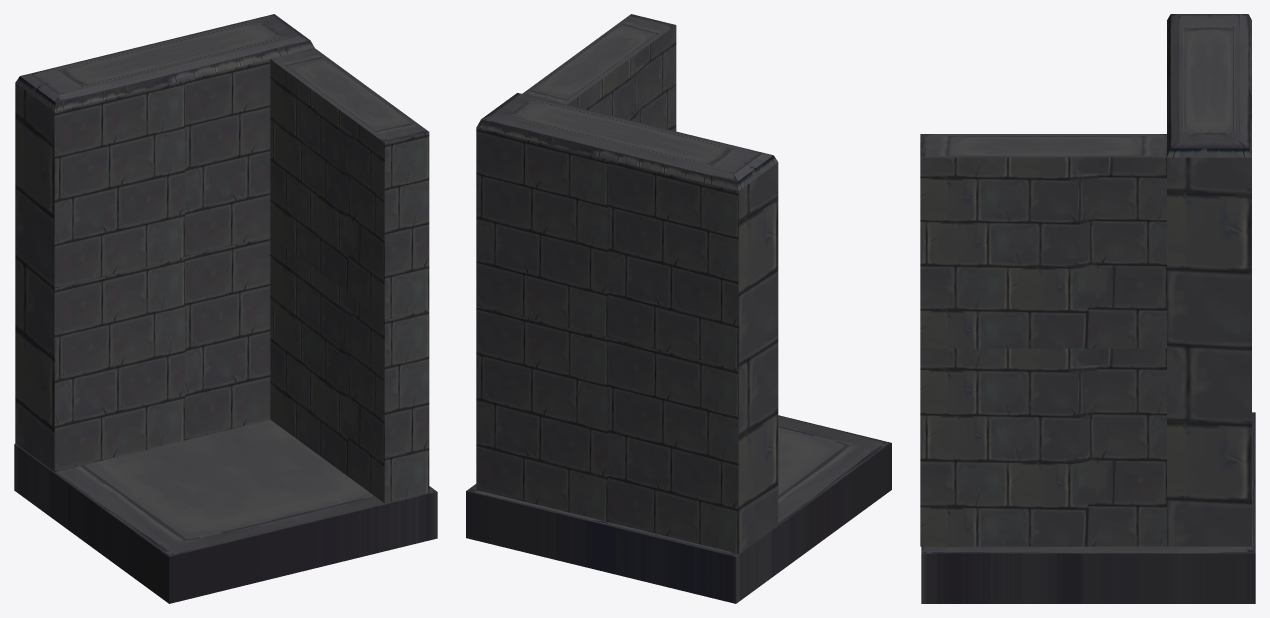
The model's file is Wall_Piece_Corner_01.glb.
The picture shows the model from 3 angles, left to right: view 1: azimuth 30°, elevation 25°; view 2: azimuth 150°, elevation 25°; view 3: azimuth 270°, elevation 25°; orthographic projection. The views are drawn at different scales.
Visible parts, largest first — view 1: Plane.025, Plane.003; view 2: Plane.025, Plane.003; view 3: Plane.025, Plane.003.
Part boxes in pixels (bbox=[...]): Plane.025: bbox=[15, 14, 429, 503]; Plane.003: bbox=[14, 419, 437, 603]; Plane.025: bbox=[476, 14, 778, 553]; Plane.003: bbox=[466, 415, 891, 603]; Plane.025: bbox=[920, 14, 1251, 546]; Plane.003: bbox=[921, 412, 1255, 603].
Bounding box in the file's own units: 4.06 × 6.05 × 4.06.
1 material, 1 textured.
